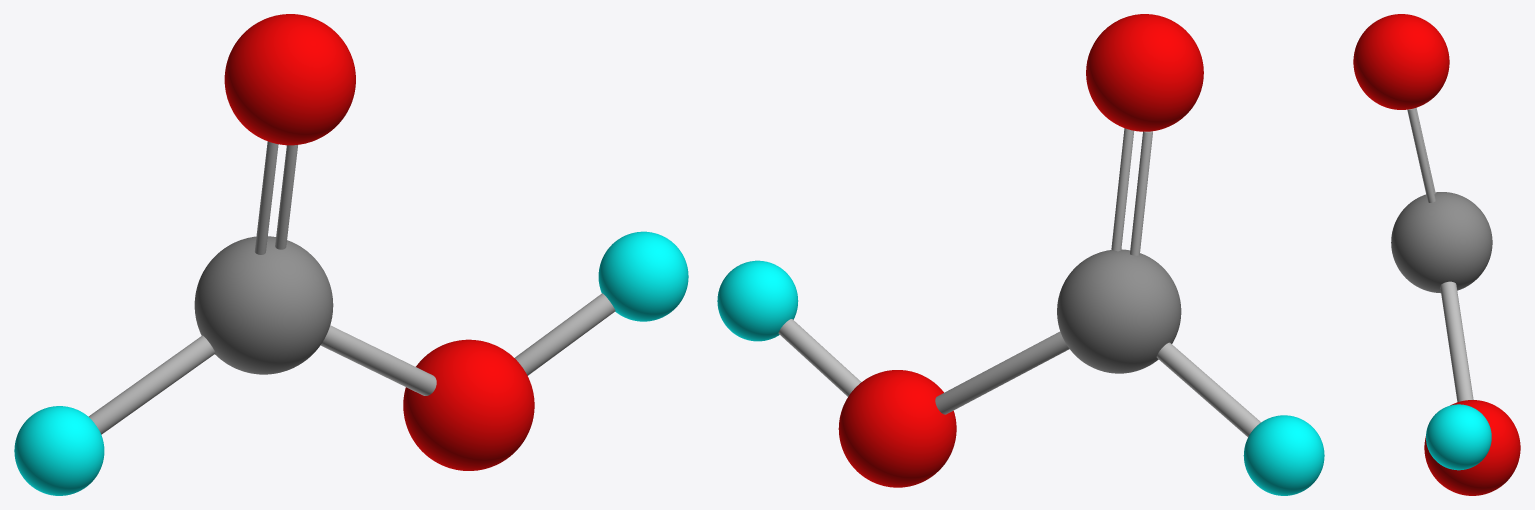
The model's file is formic acid.glb.
3 views of the same model, side by side, from view 1: azimuth 30°, elevation 25°; view 2: azimuth 150°, elevation 25°; view 3: azimuth 270°, elevation 25° (orthographic). The views are drawn at different scales.
Parts seen in each view (by area): view 1: CMAtom_0, CMAtom_2, CMAtom_3, CMAtom_1, CMAtom_4, CMBond_1_Segment_0, CMBond_4_Segment_0, CMBond_5_Segment_0, CMBond_2_Segment_0, CMBond_3_Segment_0; view 2: CMAtom_0, CMAtom_2, CMAtom_3, CMAtom_1, CMAtom_4, CMBond_4_Segment_0, CMBond_1_Segment_0, CMBond_5_Segment_0, CMBond_2_Segment_0, CMBond_3_Segment_0; view 3: CMAtom_0, CMAtom_2, CMAtom_3, CMAtom_4, CMBond_4_Segment_0, CMBond_3_Segment_0.
Part boxes in pixels (x1,y1,x2,y2): CMAtom_0: (194,236,333,374); CMAtom_2: (224,14,355,145); CMAtom_3: (403,339,534,470); CMAtom_1: (14,406,104,495); CMAtom_4: (598,231,688,321); CMBond_1_Segment_0: (88,335,215,434); CMBond_4_Segment_0: (320,325,436,395); CMBond_5_Segment_0: (515,293,615,375); CMBond_2_Segment_0: (254,141,278,254); CMBond_3_Segment_0: (275,145,297,249); CMAtom_0: (1057,249,1181,373); CMAtom_2: (1086,14,1203,131); CMAtom_3: (838,370,956,487); CMAtom_1: (1243,415,1324,495); CMAtom_4: (717,260,798,341); CMBond_4_Segment_0: (935,331,1069,414); CMBond_1_Segment_0: (1156,342,1260,437); CMBond_5_Segment_0: (778,319,861,396); CMBond_2_Segment_0: (1130,131,1152,255); CMBond_3_Segment_0: (1111,128,1134,251); CMAtom_0: (1391,192,1492,293); CMAtom_2: (1353,14,1449,109); CMAtom_3: (1424,400,1520,495); CMAtom_4: (1426,404,1491,470); CMBond_4_Segment_0: (1440,281,1473,402); CMBond_3_Segment_0: (1407,108,1435,202).
Bounding box in the file's own units: 3.4 × 2.63 × 1.02.
